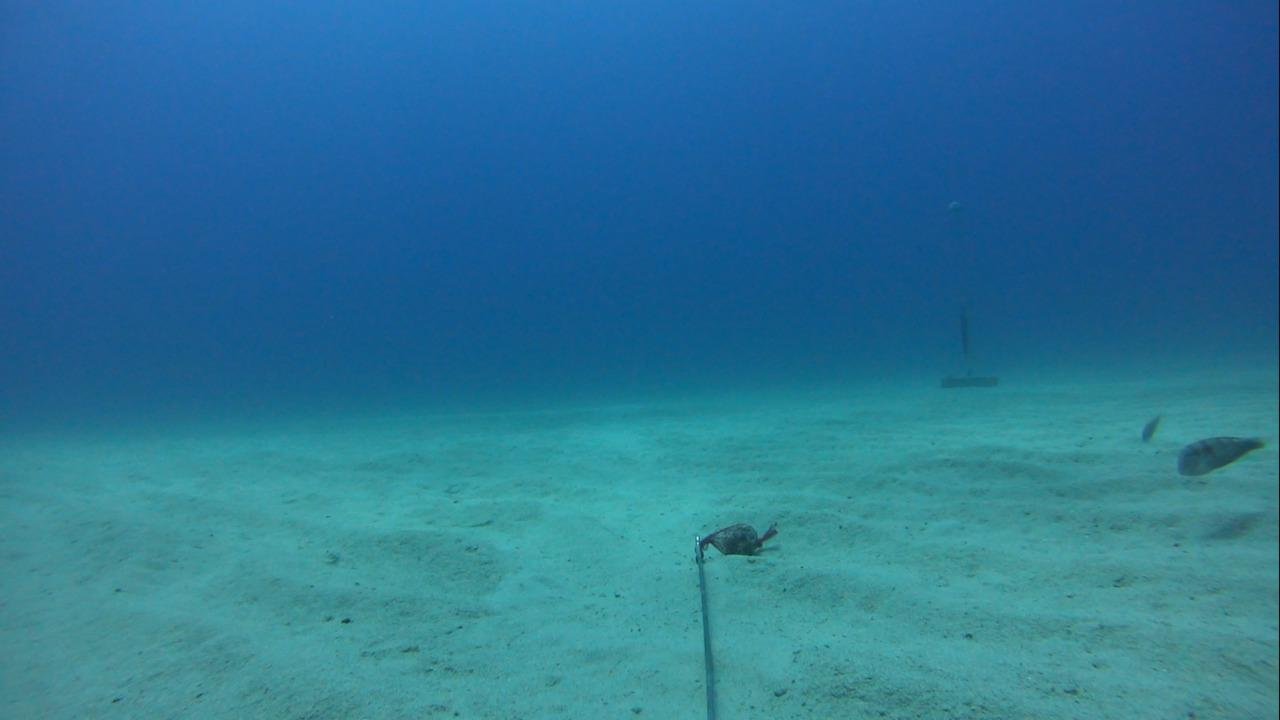raor: (1168, 427, 1264, 481), (1126, 402, 1167, 449)
